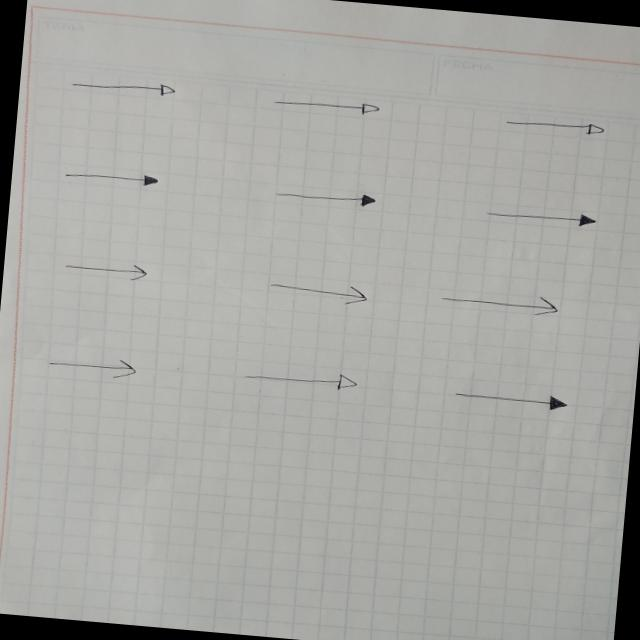arrow_line_right: (438, 286, 562, 320), (452, 382, 570, 414), (242, 362, 358, 394), (264, 274, 370, 308), (68, 72, 180, 102), (482, 204, 597, 232), (271, 93, 381, 120), (272, 183, 378, 210), (501, 112, 608, 138), (46, 352, 138, 381), (58, 164, 162, 188), (62, 256, 152, 283)
